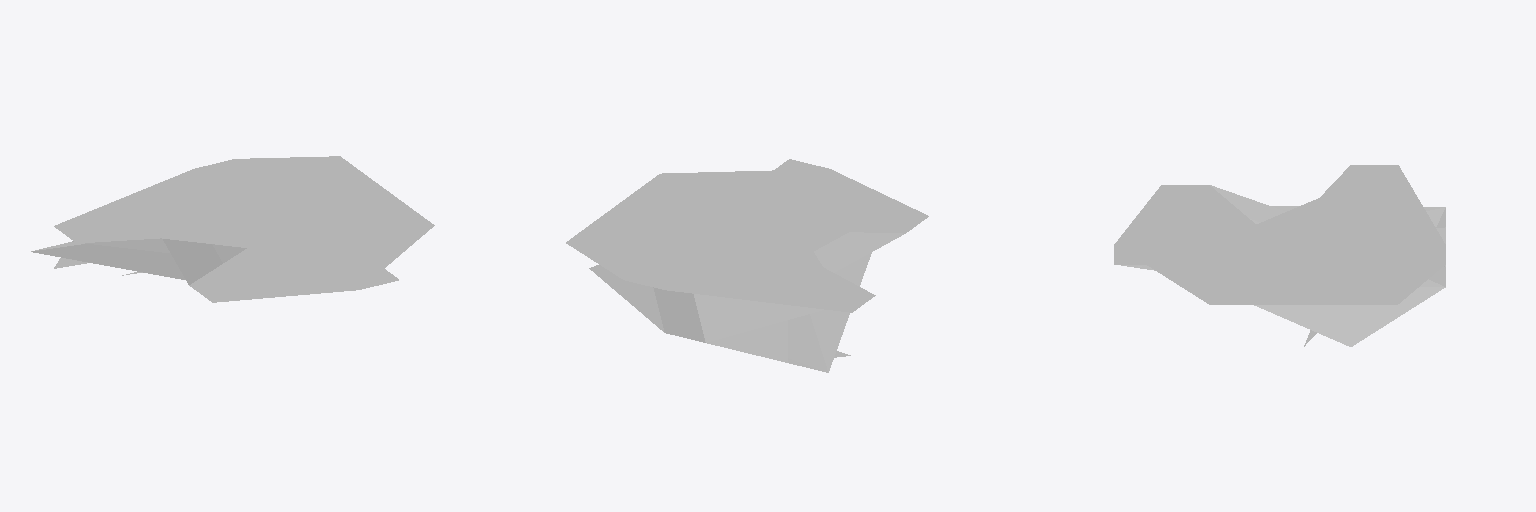
Rendered from Plant 3.obj.
3 renders of one model, left to right at view 1: azimuth 30°, elevation 25°; view 2: azimuth 150°, elevation 25°; view 3: azimuth 270°, elevation 25°, orthographic.
Size of the model in its own units: 7 by 1 by 7.